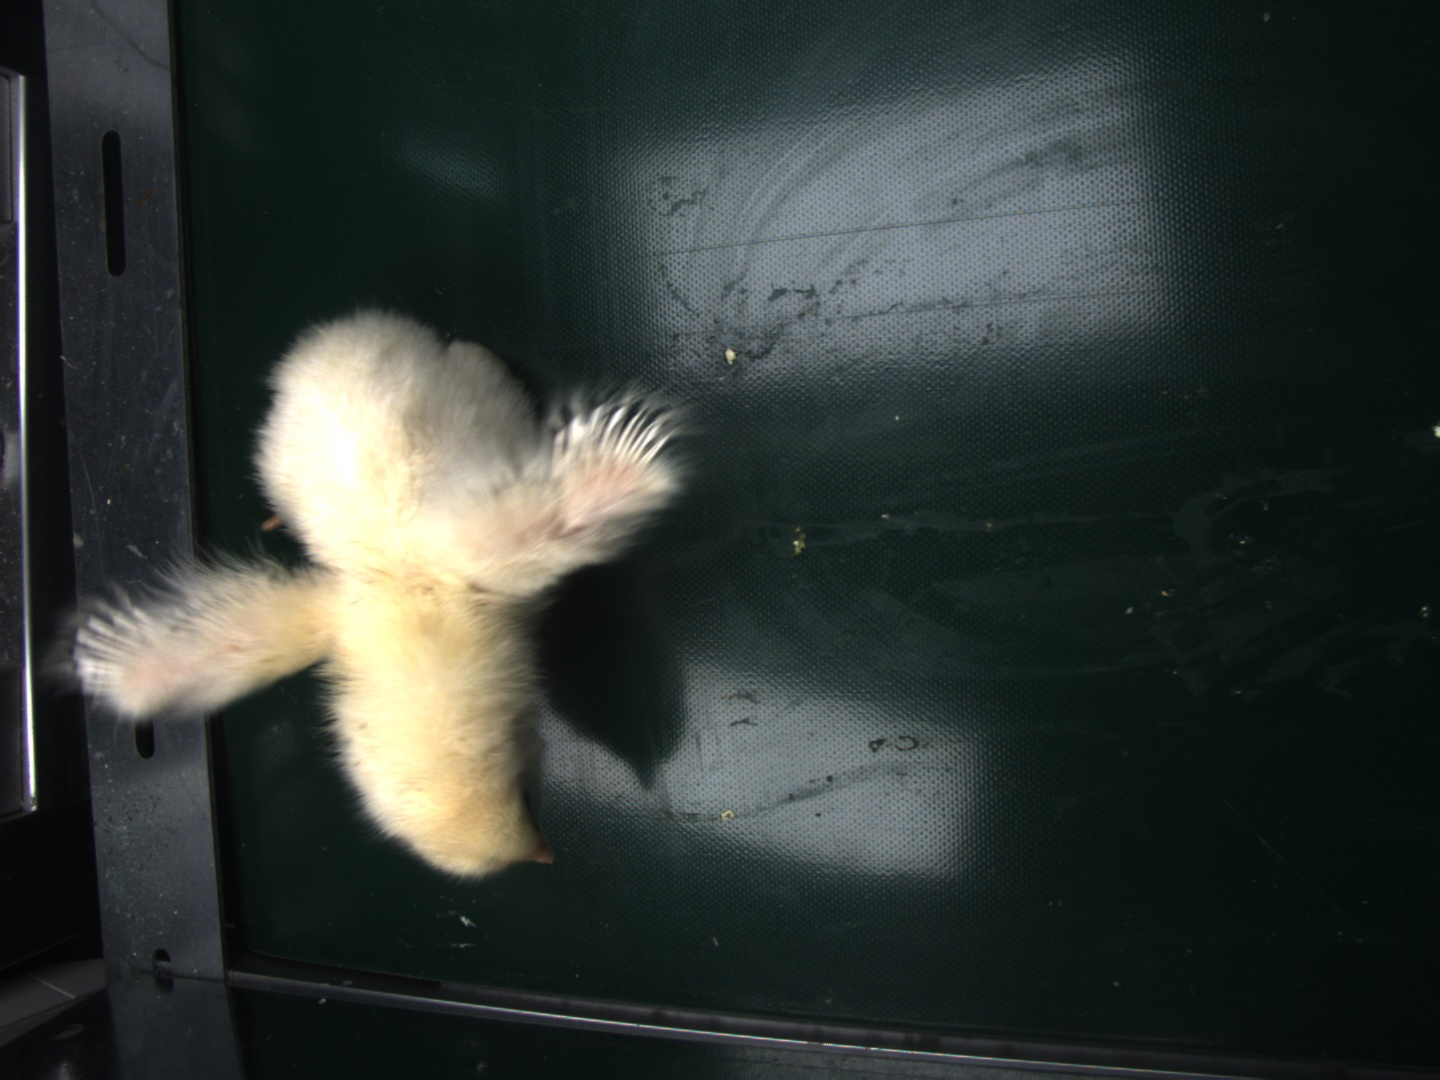male: (571, 403, 669, 474)
